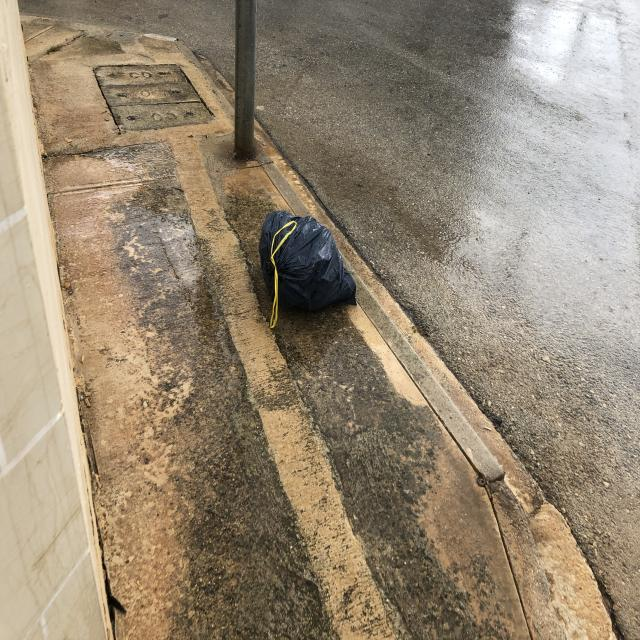Mixed Waste -Black Bag-: (260, 210, 360, 333)
